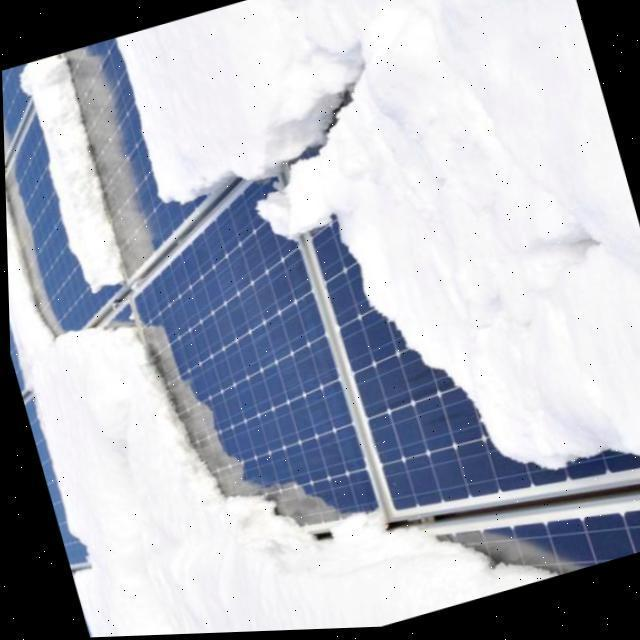Anomaly Solar Panel: (2, 0, 640, 638)
Snow: (106, 0, 640, 482), (5, 196, 546, 638), (11, 50, 136, 291)
